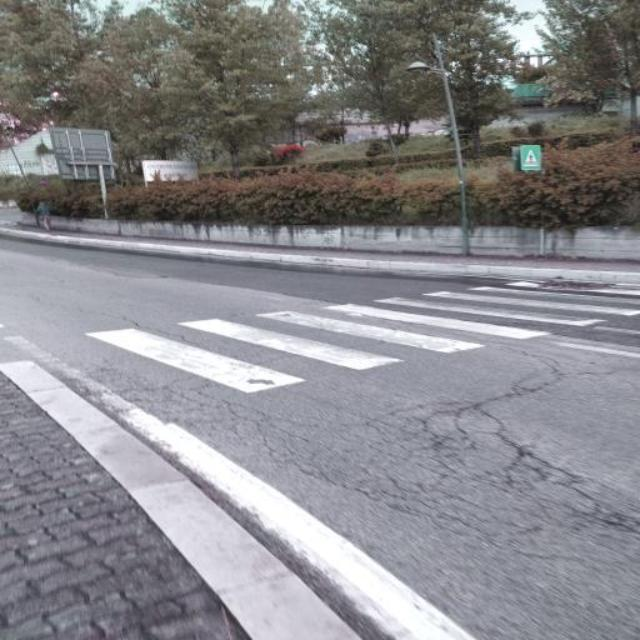sidewalk: (98, 278, 640, 392)
